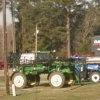Tractor: (14, 50, 89, 96)
